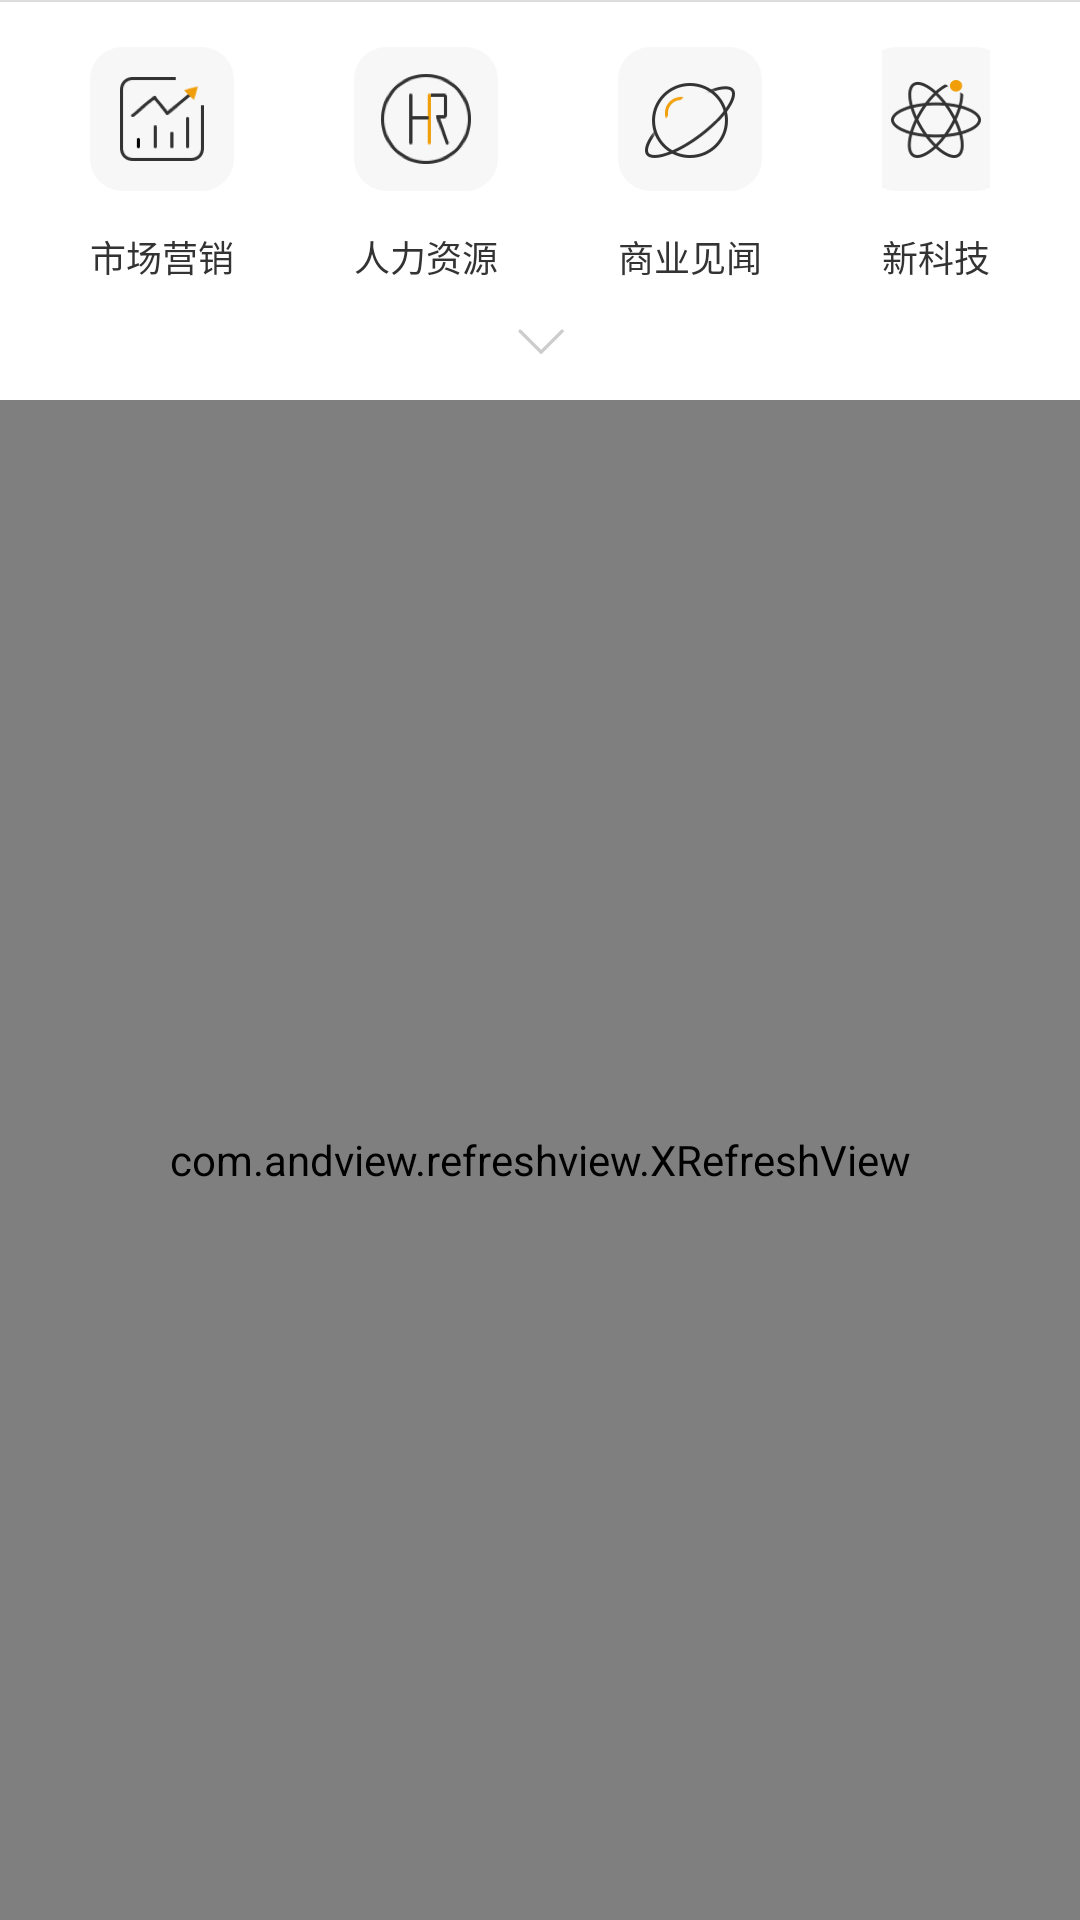

Where icons sit on this 1080px×1920px app screen, as bbox(x1, y1, x2, y2):
xinzhibao business info: bbox(645, 83, 735, 158)
xinzhibao expand: bbox(519, 330, 564, 354)
xinzhibao marketing: bbox(120, 77, 204, 161)
xinzhibao person resource: bbox(381, 74, 471, 164)
xinzhibao technology: bbox(891, 80, 981, 158)
